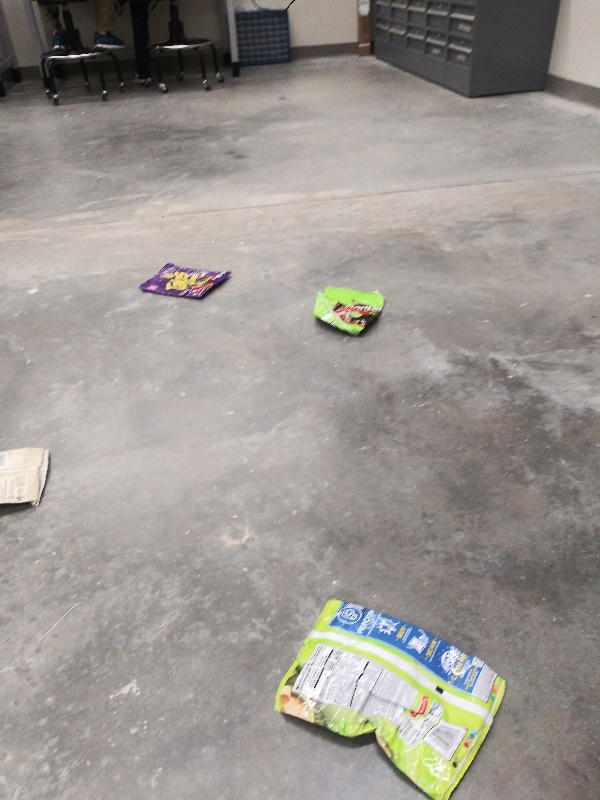bag: (267, 595, 510, 800), (310, 280, 387, 340), (137, 260, 233, 303), (1, 438, 56, 508)
